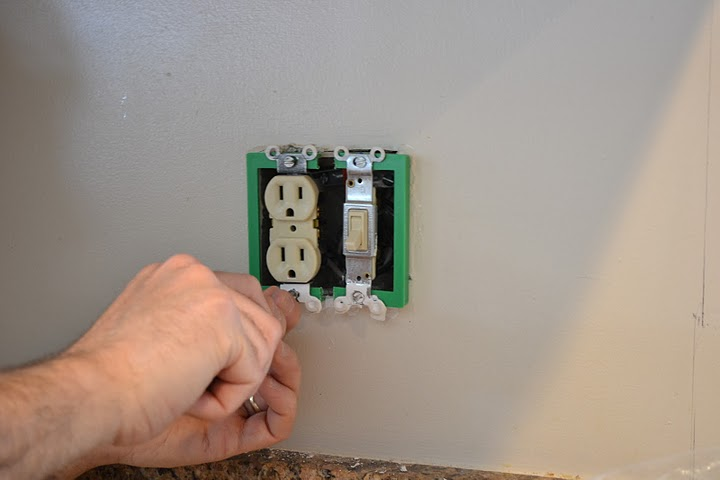outlet: (275, 240, 311, 281), (274, 182, 308, 218)
